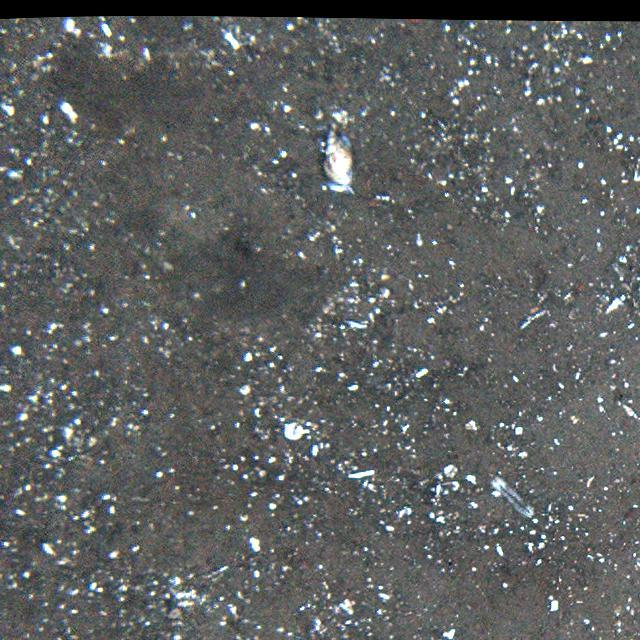whelk: (321, 125, 356, 185)
